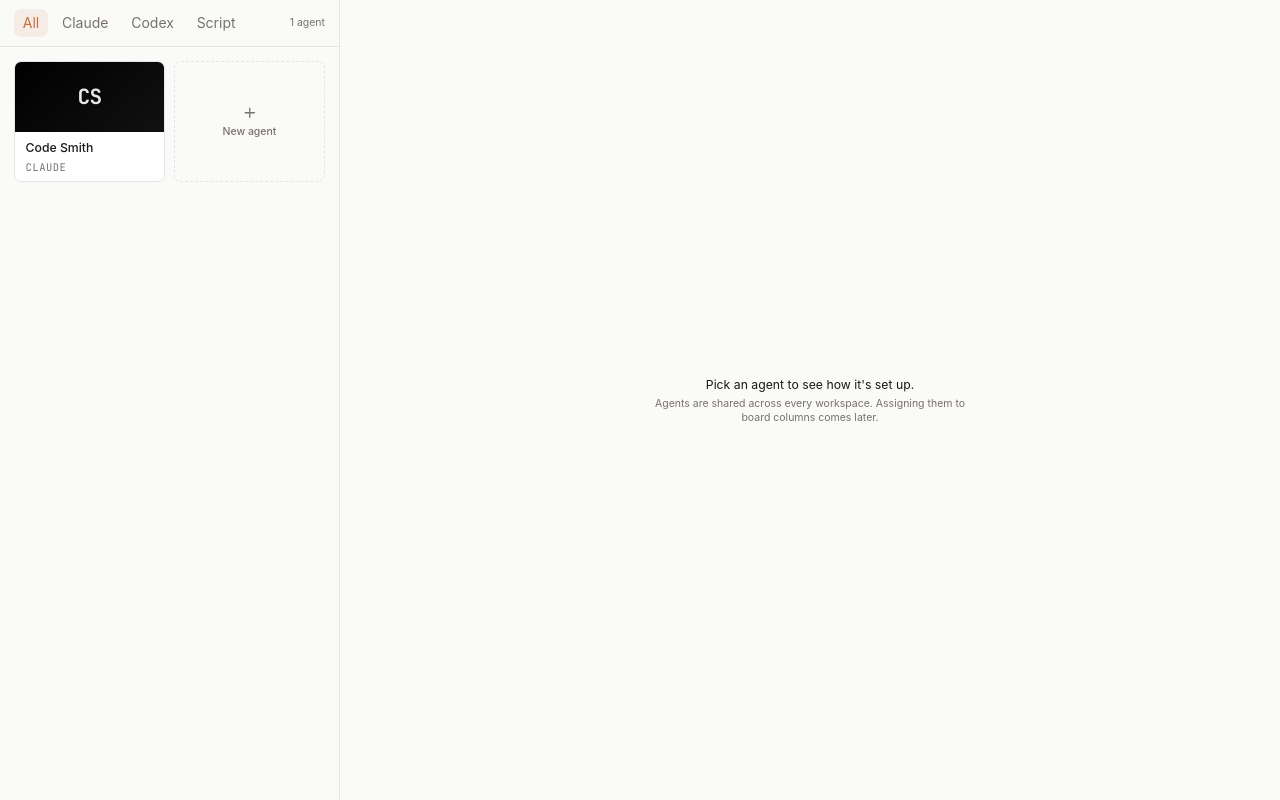
Scenario: RosterView › the dossier says where an agent actually runs
What coordinates should you click on to do the following:
click the button with test id "agent-tile-a1"
I would click on:
 (90, 121)
Its box is [14,60,165,182].
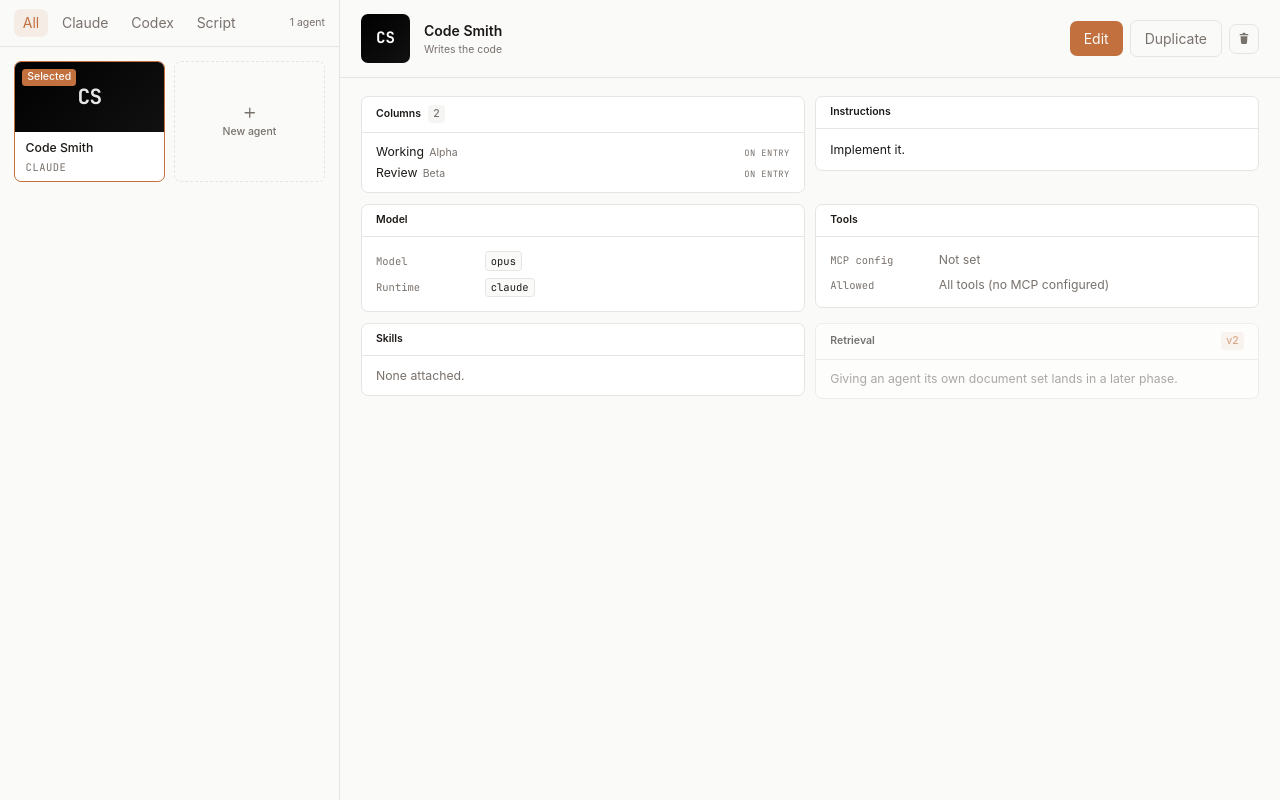
Expected: the text "Working" is shown, [376,144,424,159]
Expected: the text "Review" is shown, [376,165,417,180]
Expected: the text "Beta" is shown, [423,167,445,180]
